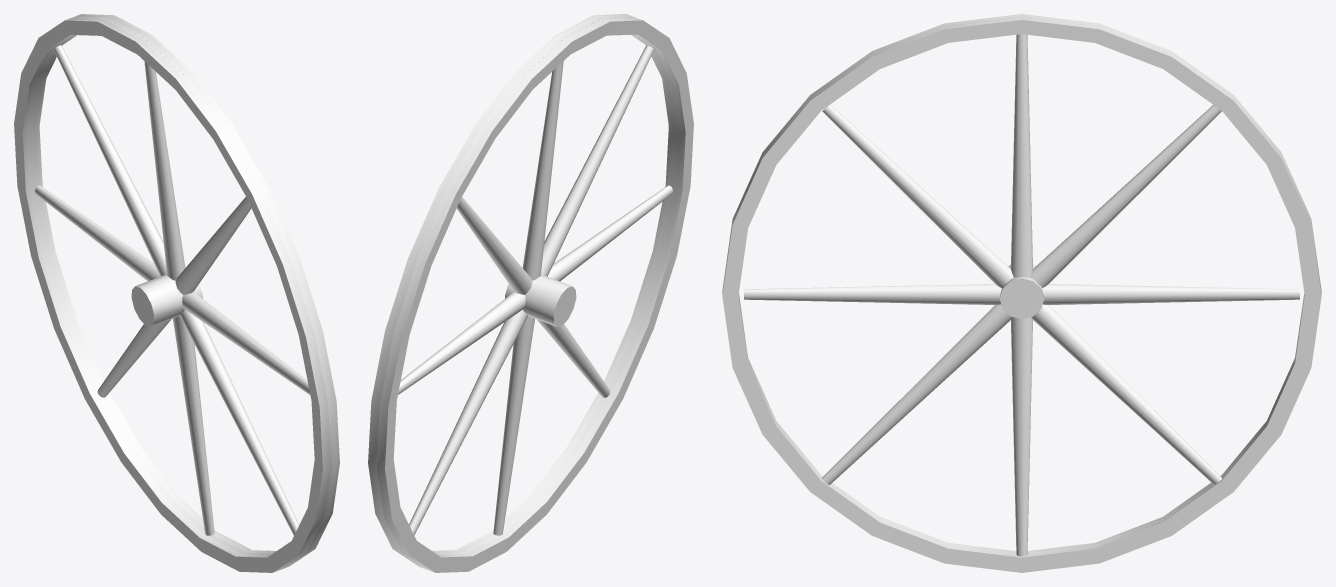
File: rudder.obj
3 views of the same model, side by side, from view 1: azimuth 30°, elevation 25°; view 2: azimuth 150°, elevation 25°; view 3: azimuth 270°, elevation 25° (orthographic).
Parts seen in each view (by area): view 1: Ster; view 2: Ster; view 3: Ster.
Boxes of the visible parts, left/top/right/bottom form: Ster: left=14, top=14, right=339, bottom=572; Ster: left=368, top=14, right=693, bottom=572; Ster: left=722, top=14, right=1321, bottom=572.
Size of the model in its own units: 0.2061 by 1.26 by 1.31.
